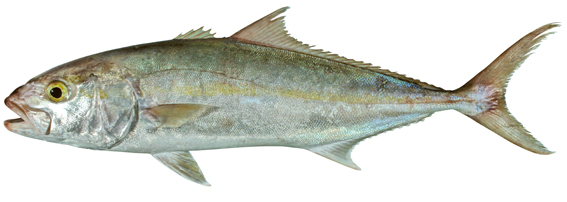fish: (4, 6, 563, 187)
